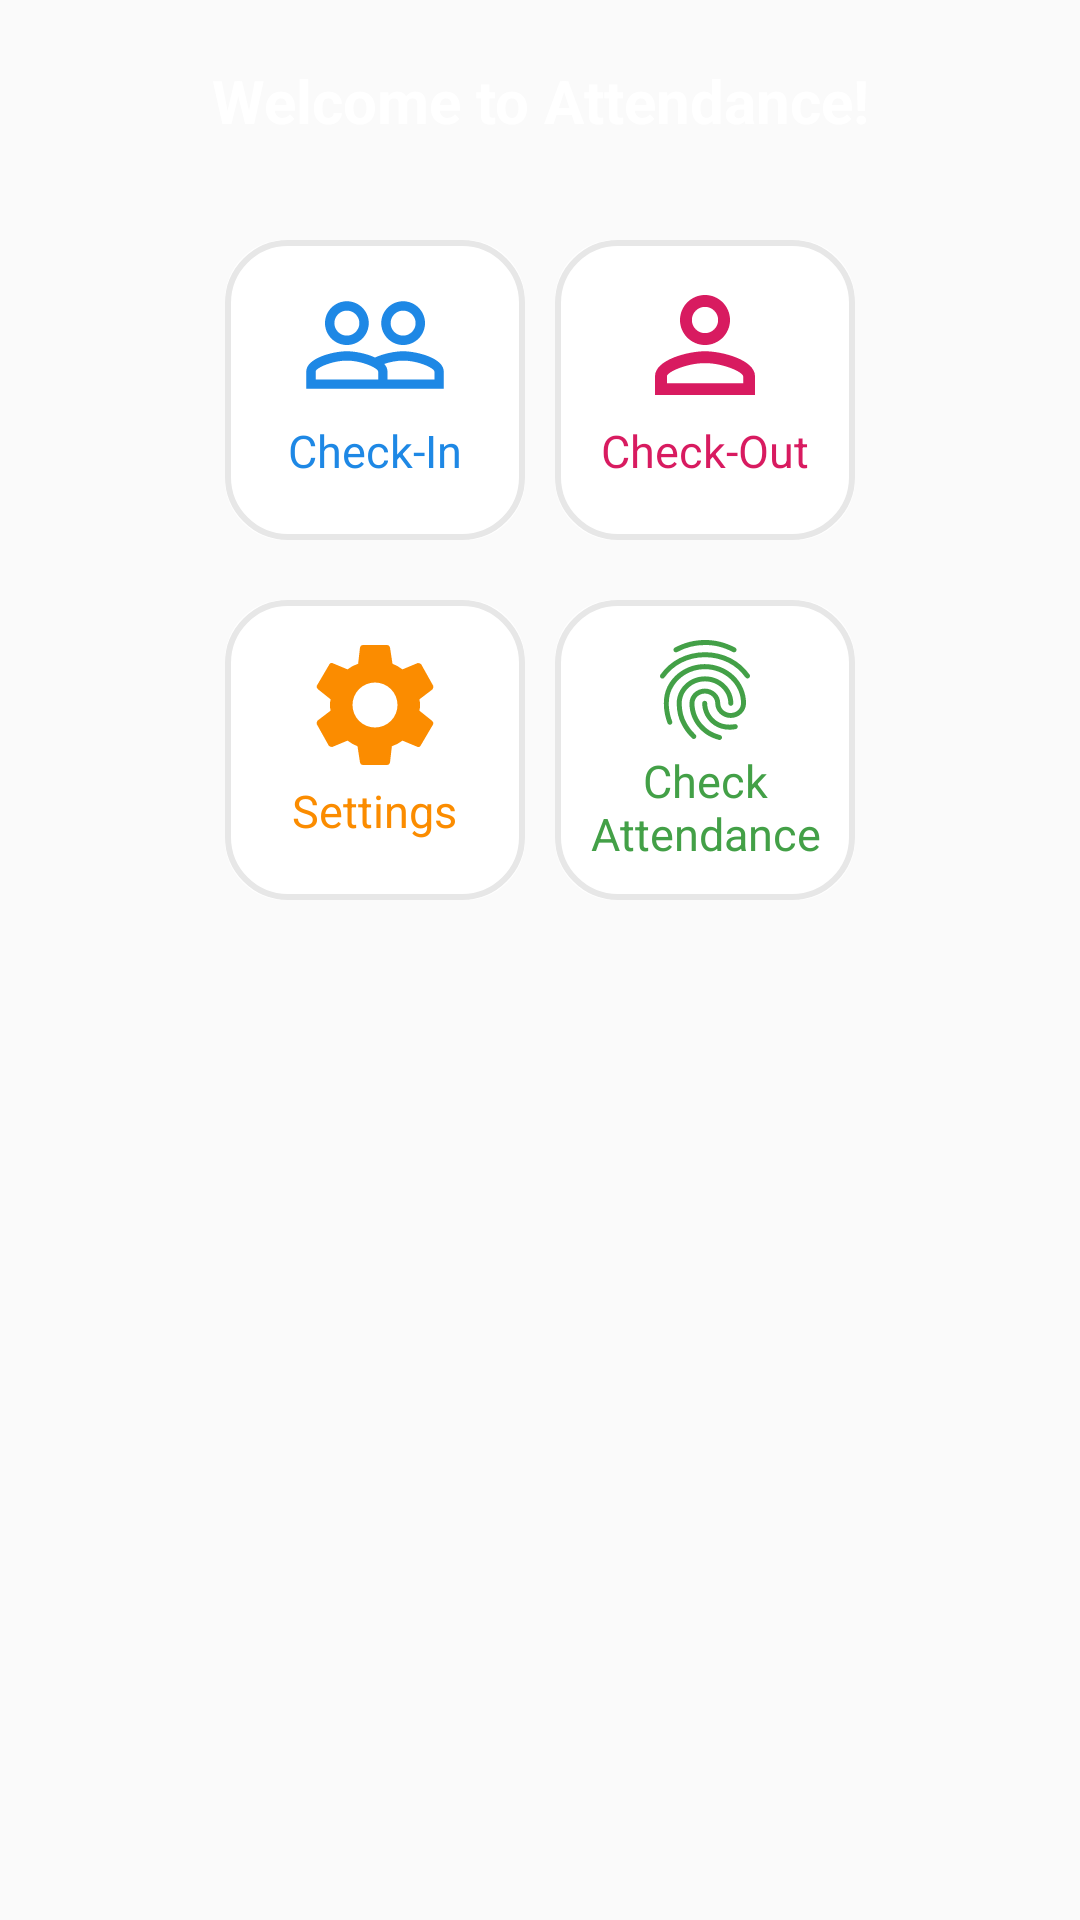

Named icons in this screenshot (1080w x 1920h) and their bounding boxes, Rect(x1, y1, x2, y2):
fingerprint: Rect(660, 640, 750, 740)
people: Rect(306, 301, 444, 389)
